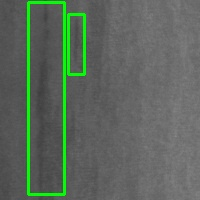inclusion: (28, 2, 64, 194), (68, 14, 84, 74)
